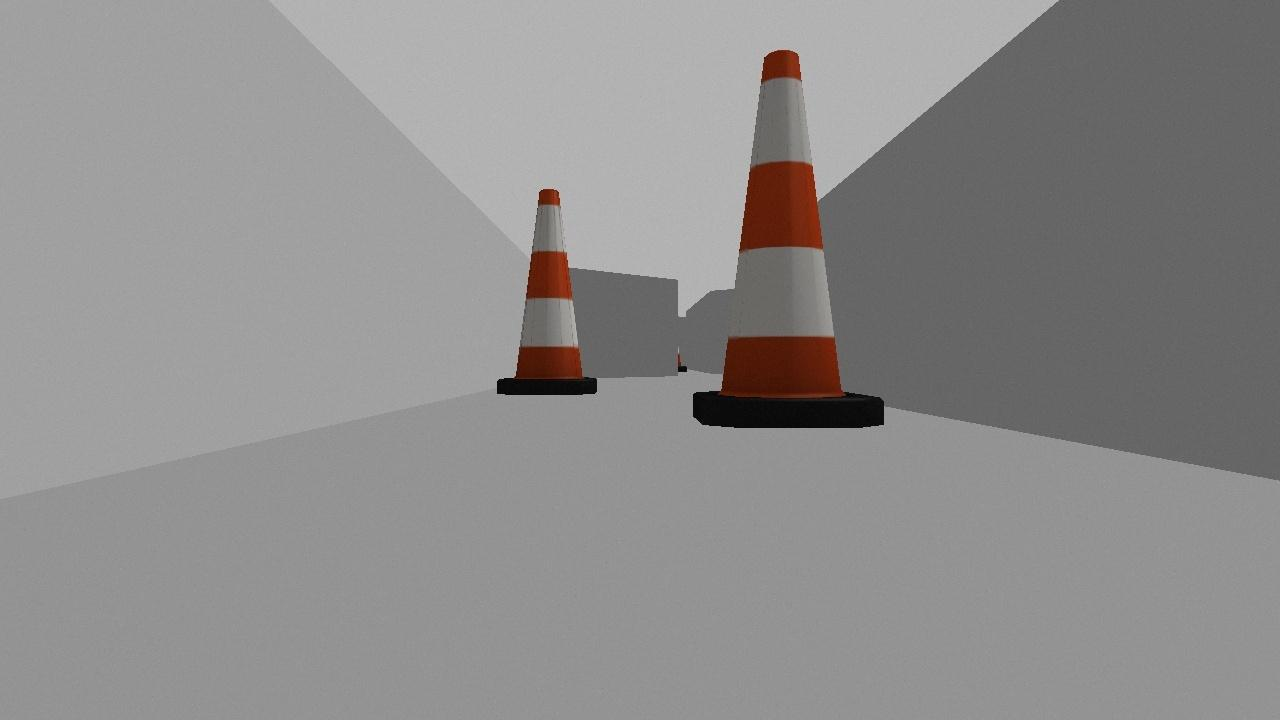cone_barrel: (688, 46, 886, 428), (495, 186, 595, 396)
